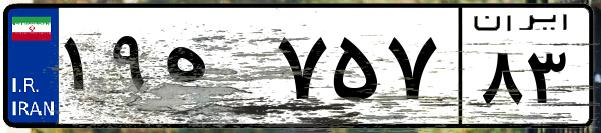1: (57, 26, 110, 100)
3: (525, 38, 570, 115)
5: (330, 28, 385, 110)
7: (270, 28, 330, 110), (385, 28, 445, 110)
8: (475, 38, 525, 113)
9: (110, 28, 158, 98)
ه: (158, 20, 270, 120)
